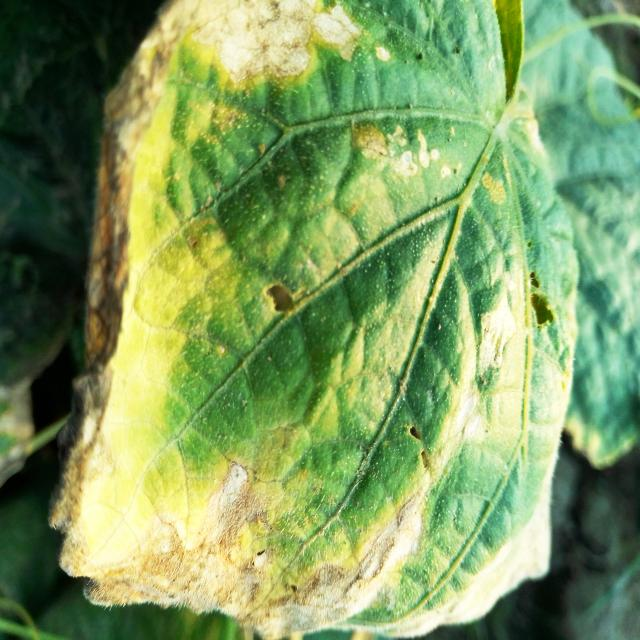Gummy-Stem-Blight: (43, 0, 437, 639)
